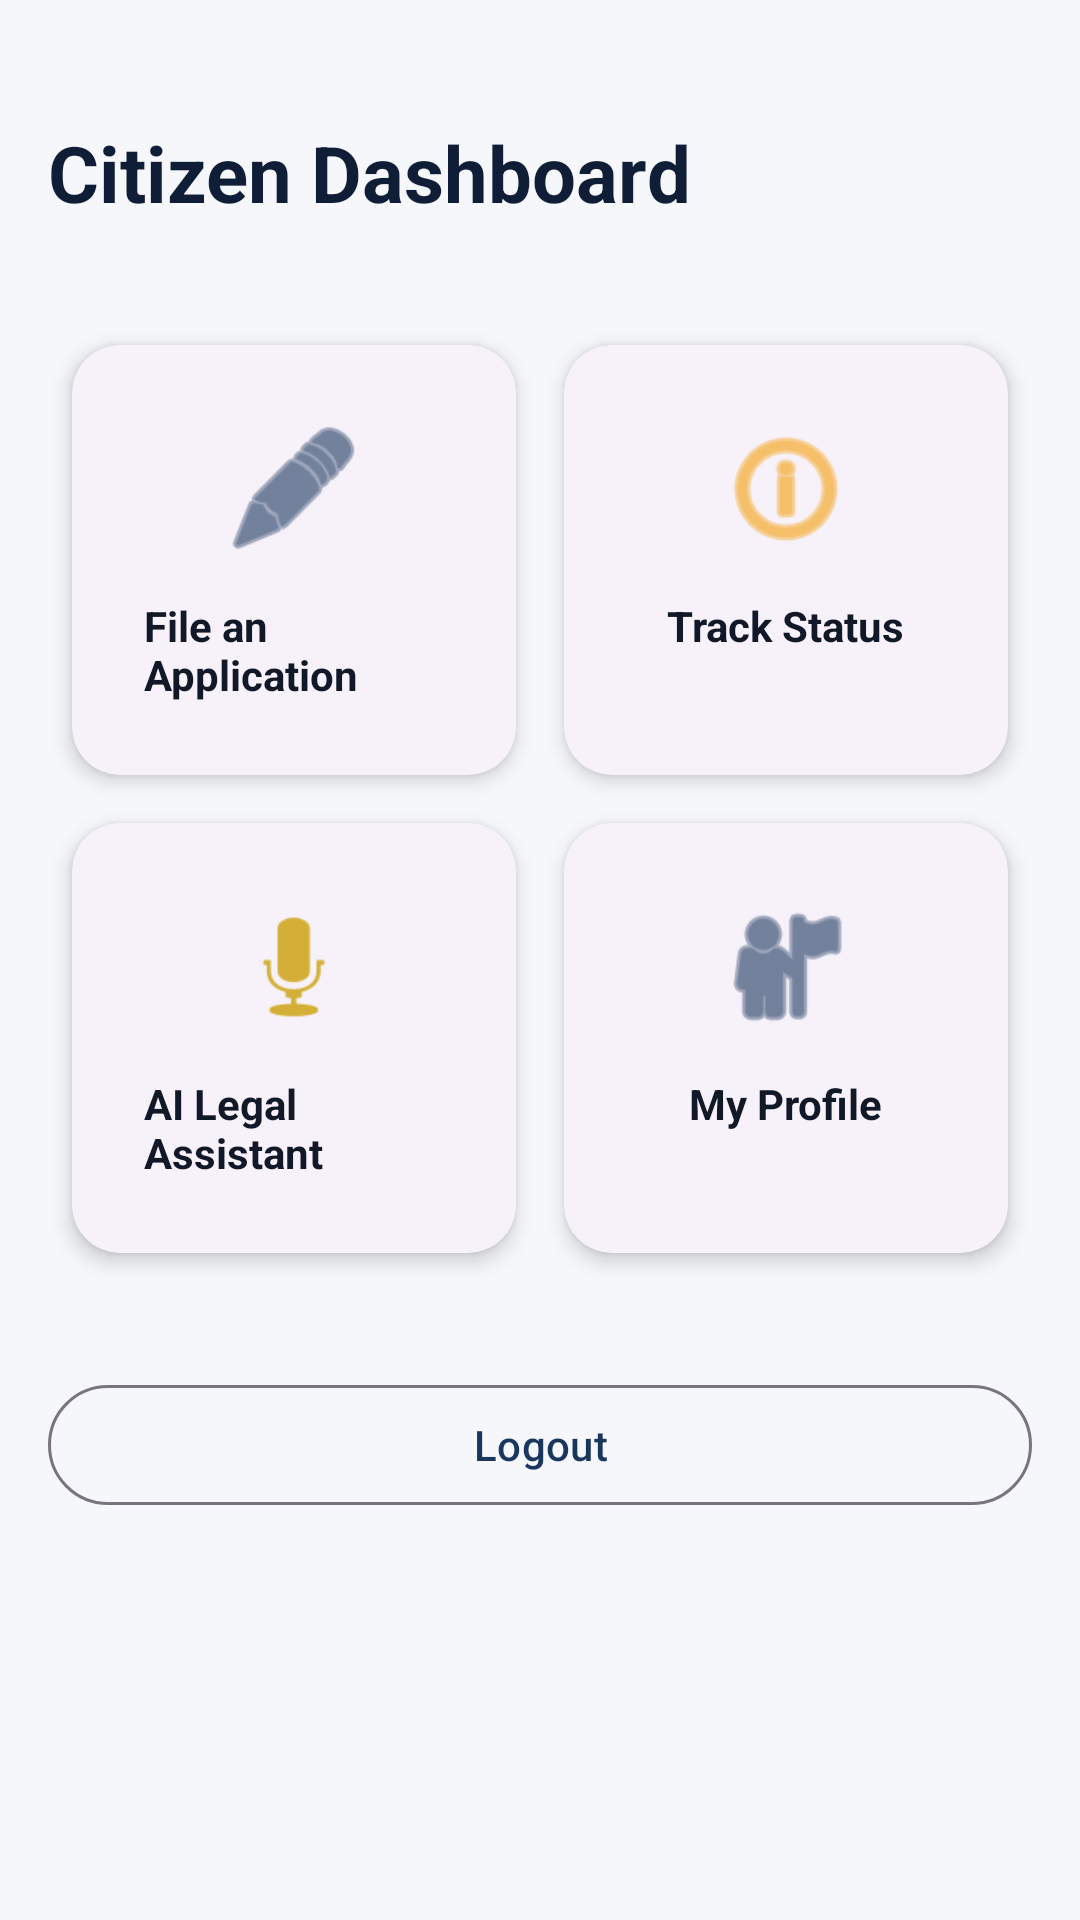

Where to tap for icons on this 1080px×1920px app screen, as [x,y]:
edit: [293,488]
info details: [786,489]
myplaces: [787,967]
speak now: [294,967]
